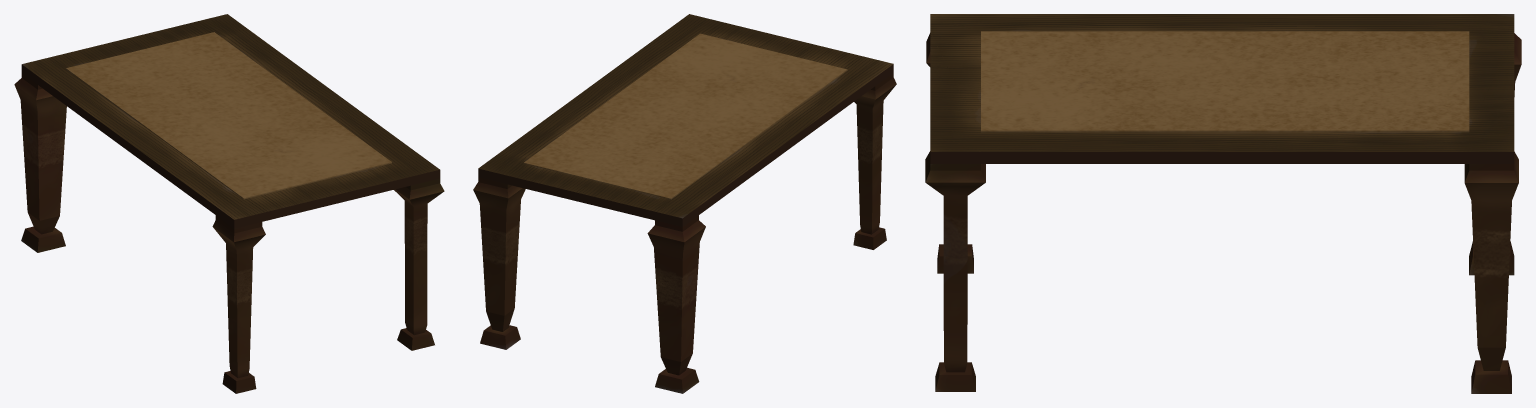
File: AlchemyStationLedger.fbx
3 views of the same model, side by side, from view 1: azimuth 30°, elevation 25°; view 2: azimuth 150°, elevation 25°; view 3: azimuth 270°, elevation 25° (orthographic). The views are drawn at different scales.
Visible parts, largest first — view 1: pCube19; view 2: pCube19; view 3: pCube19.
Part boxes in pixels (left/top/right/bottom): pCube19: left=14, top=14, right=444, bottom=393; pCube19: left=473, top=14, right=896, bottom=393; pCube19: left=925, top=14, right=1521, bottom=393.
Size of the model in its own units: 125 by 99.5 by 220.
